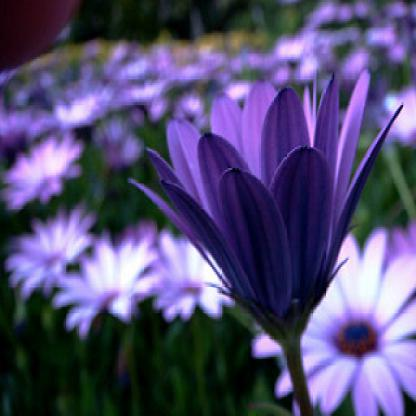ASTER: (13, 26, 405, 402)
